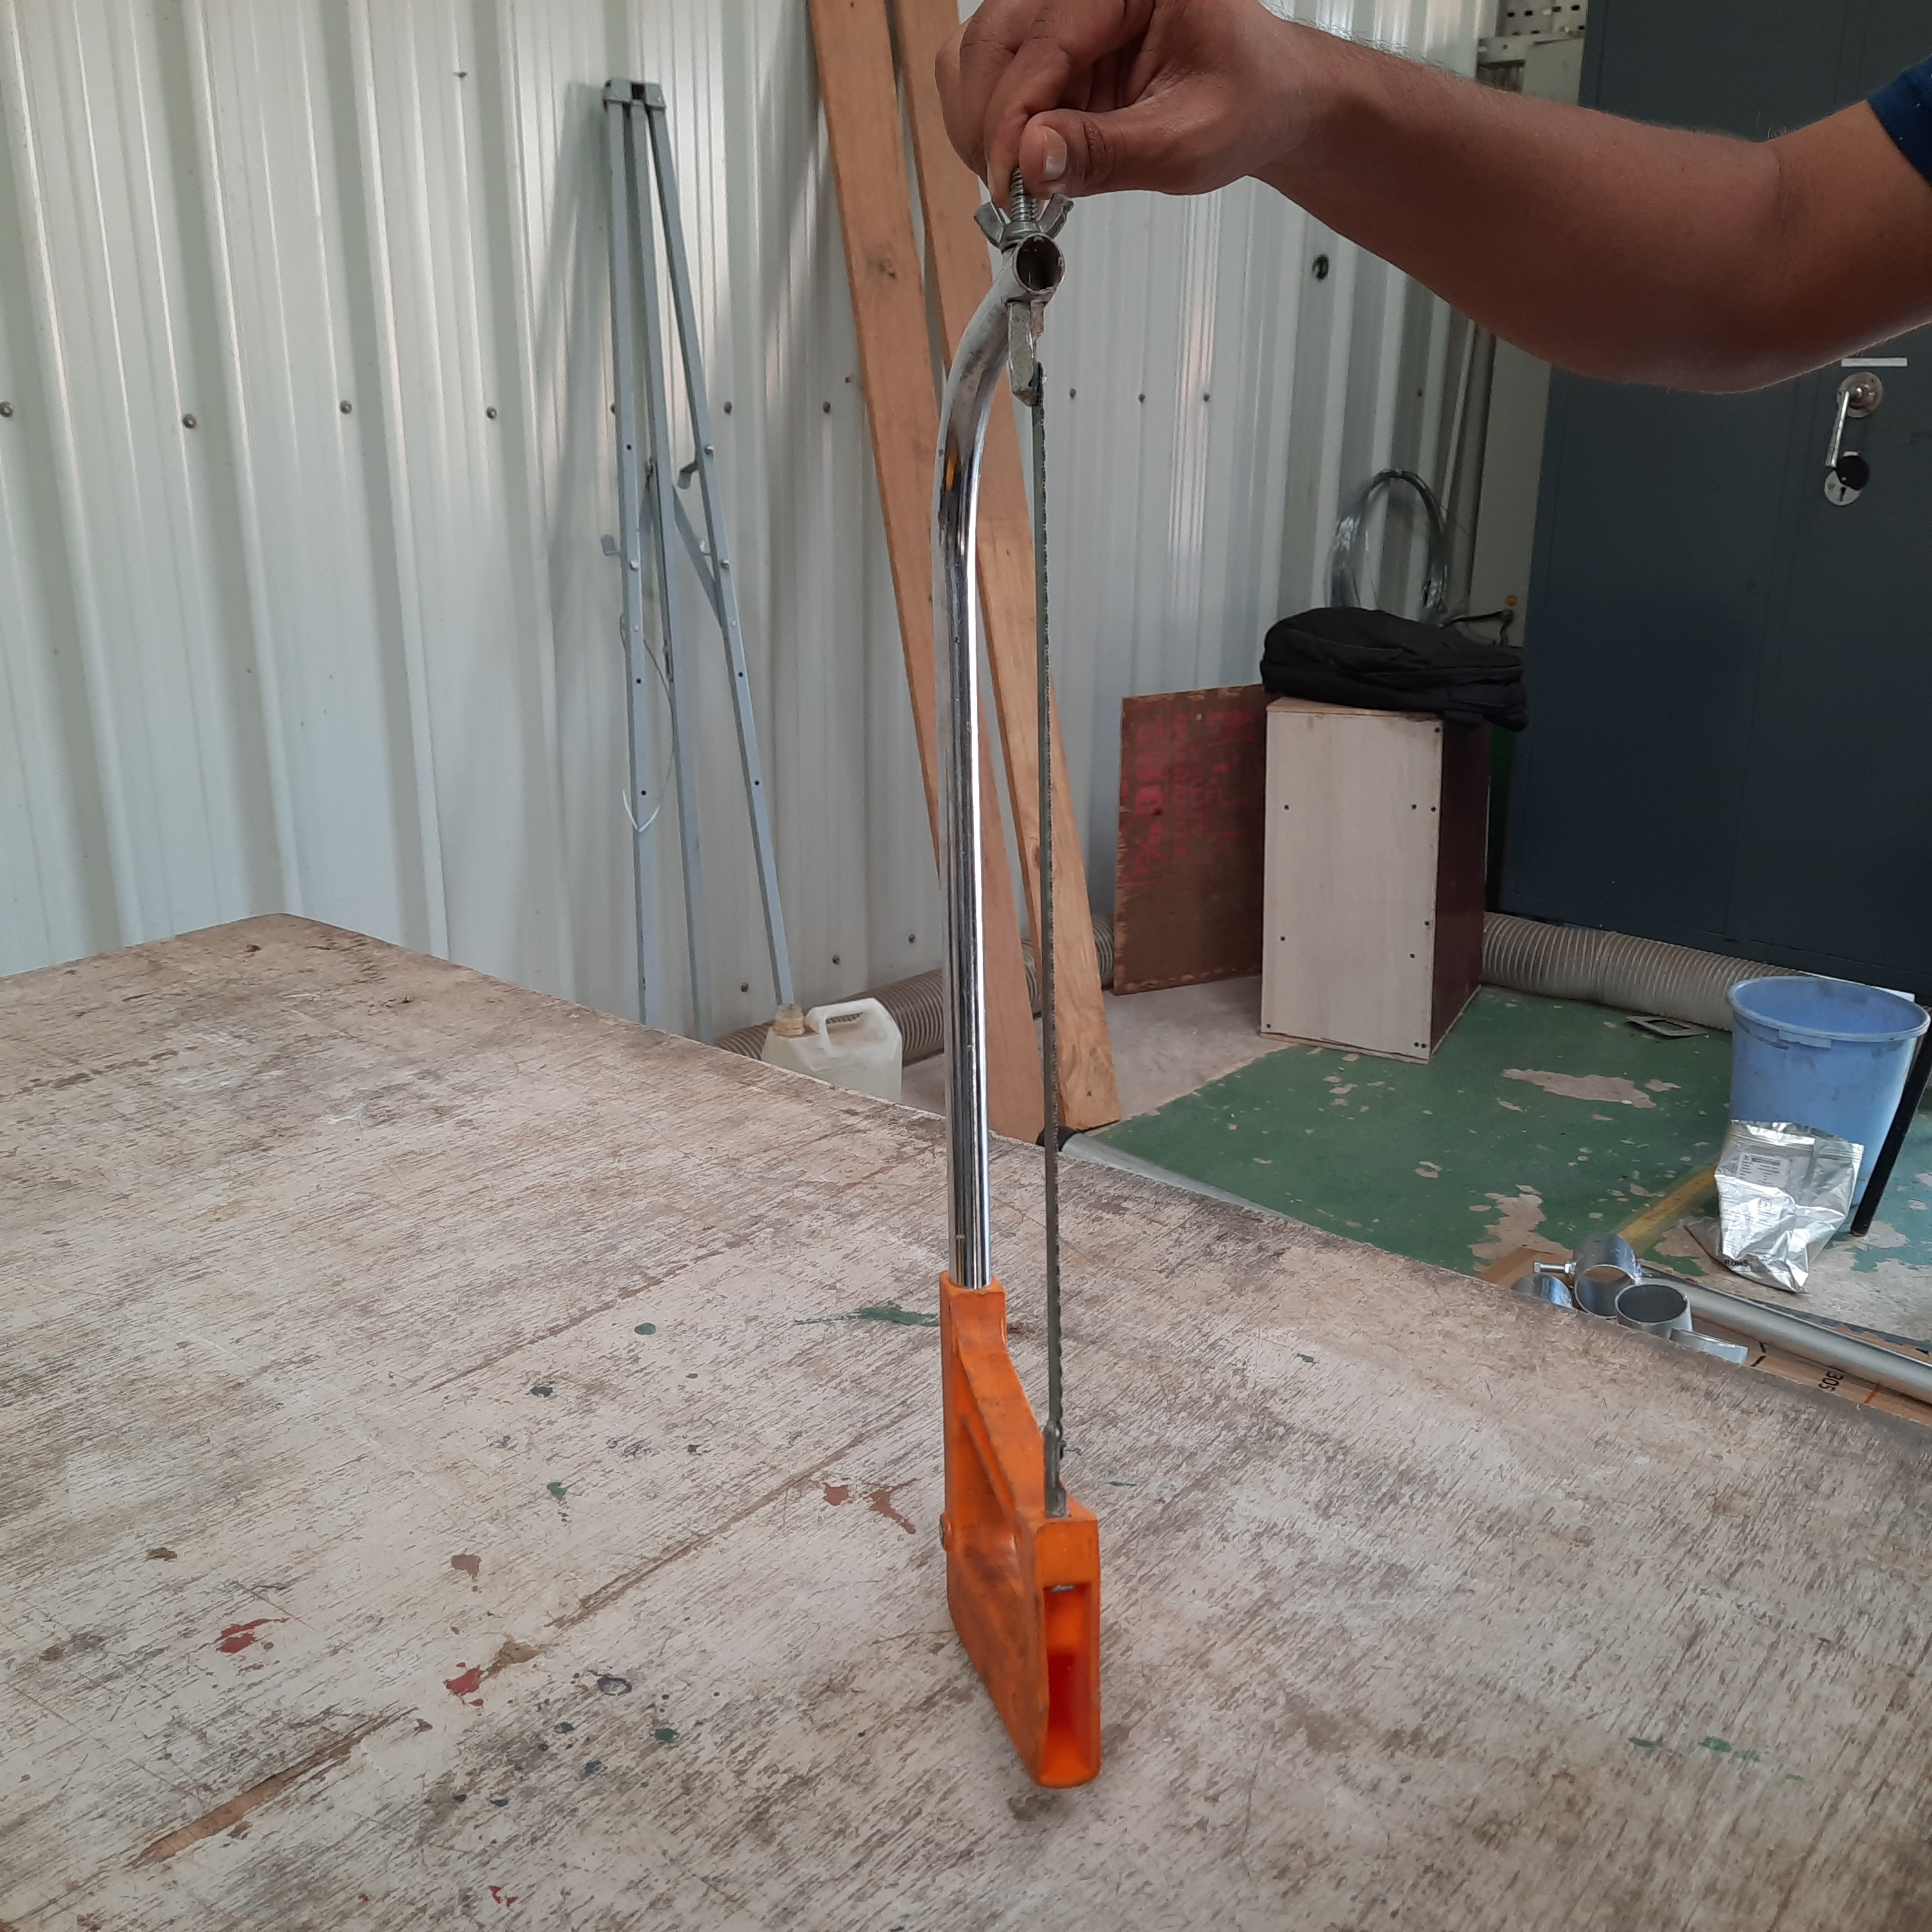Hexaframe: (878, 170, 1175, 1805)
